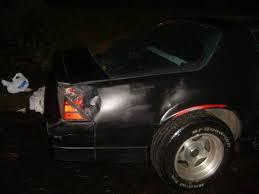quaterpanel-dent: (89, 73, 208, 153)
